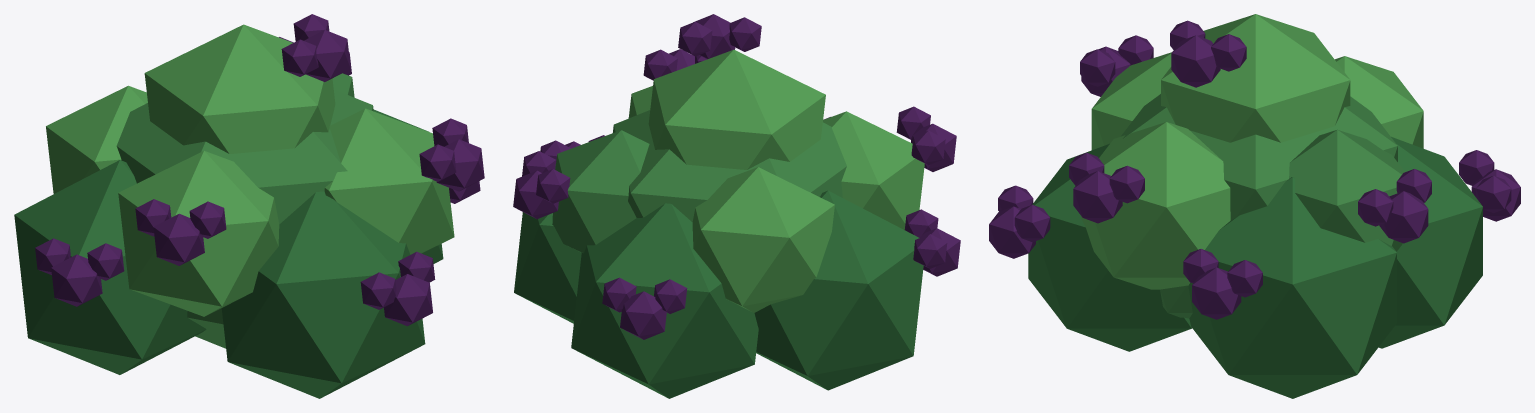
File: arbusto_amoras.glb
The picture shows the model from 3 angles, left to right: view 1: azimuth 30°, elevation 25°; view 2: azimuth 150°, elevation 25°; view 3: azimuth 270°, elevation 25°; orthographic projection. The views are drawn at different scales.
Visible parts, largest first — view 1: folha_frente, folha_esq, folha_topo, folha_diag_fr_e, folha_diag_fr_d, folha_corpo, folha_diag_tr_e, amora_19, amora_07, amora_04, amora_13, amora_16 (+10 smaller); view 2: folha_tras, folha_esq, folha_topo, folha_diag_tr_e, folha_corpo, folha_diag_tr_d, folha_diag_fr_e, folha_dir, amora_10, amora_22, amora_13, amora_20 (+13 smaller); view 3: folha_dir, folha_diag_fr_d, folha_topo, folha_frente, folha_tras, folha_corpo, folha_diag_tr_d, folha_diag_tr_e, folha_diag_fr_e, amora_13, amora_01, amora_16 (+18 smaller).
Boxes of the visible parts, box(x1,y1,x2,y2) form: folha_frente: box(221, 191, 425, 398); folha_esq: box(14, 160, 206, 374); folha_topo: box(144, 24, 335, 153); folha_diag_fr_e: box(118, 151, 279, 316); folha_diag_fr_d: box(324, 108, 454, 254); folha_corpo: box(116, 89, 373, 348); folha_diag_tr_e: box(46, 85, 147, 193); amora_19: box(153, 213, 204, 265); amora_07: box(51, 254, 102, 306); amora_04: box(384, 274, 432, 326); amora_13: box(304, 30, 350, 81); amora_16: box(436, 139, 484, 191); folha_tras: box(571, 203, 758, 398); folha_esq: box(754, 190, 923, 390); folha_topo: box(648, 49, 825, 169); folha_diag_tr_e: box(692, 167, 834, 312); folha_corpo: box(613, 110, 846, 221); folha_diag_tr_d: box(552, 130, 649, 253); folha_diag_fr_e: box(823, 111, 924, 229); folha_dir: box(514, 164, 581, 323); amora_10: box(620, 291, 666, 339); amora_22: box(513, 170, 558, 219); amora_13: box(693, 14, 735, 59); amora_20: box(911, 130, 945, 165); folha_dir: box(1188, 177, 1396, 398); folha_diag_fr_d: box(1081, 122, 1230, 289); folha_topo: box(1161, 14, 1350, 142); folha_frente: box(1028, 143, 1191, 351); folha_tras: box(1378, 136, 1482, 348); folha_corpo: box(1121, 94, 1397, 318); folha_diag_tr_d: box(1289, 129, 1404, 251); folha_diag_tr_e: box(1335, 56, 1423, 148); folha_diag_fr_e: box(1091, 52, 1171, 149); amora_13: box(1171, 35, 1220, 87); amora_01: box(1192, 267, 1241, 319); amora_16: box(1073, 171, 1122, 223).
Bounding box in the file's own units: 1.34 × 1.01 × 1.43.
